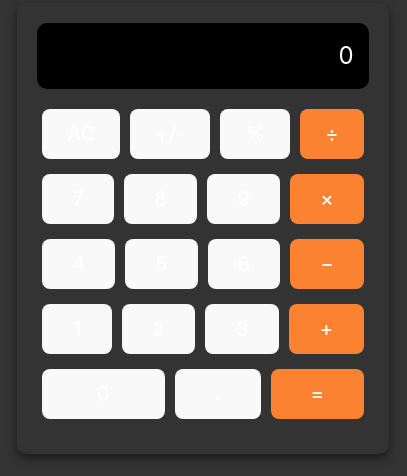
Calculator App › Calcula porcentajes correctamente convirtiendo 50 a 0.5
The image size is (407, 476).
Click the button labelled "5" at (162, 264), box x1=126 y1=238 x2=198 y2=288
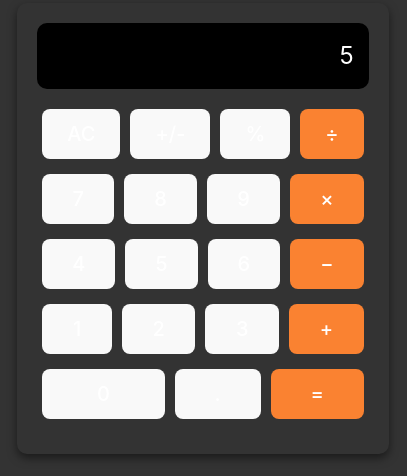
Click the button labelled "0" at (104, 394), box x1=42 y1=368 x2=165 y2=418
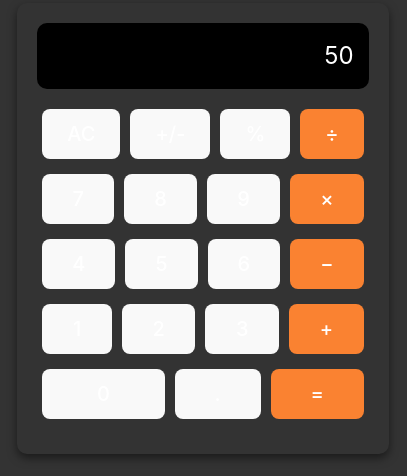
Click the button named "percentage" at (255, 134), box x1=220 y1=108 x2=290 y2=158
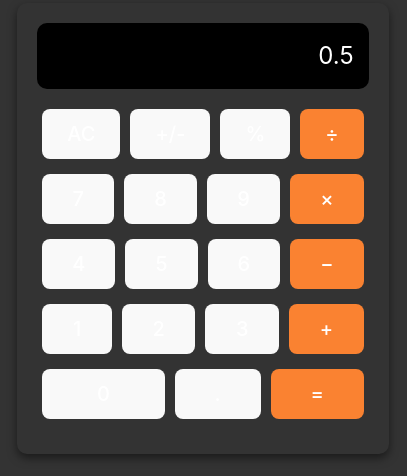
Expected: the text with class "display" reads "0.5", x1=318 y1=40 x2=354 y2=70
